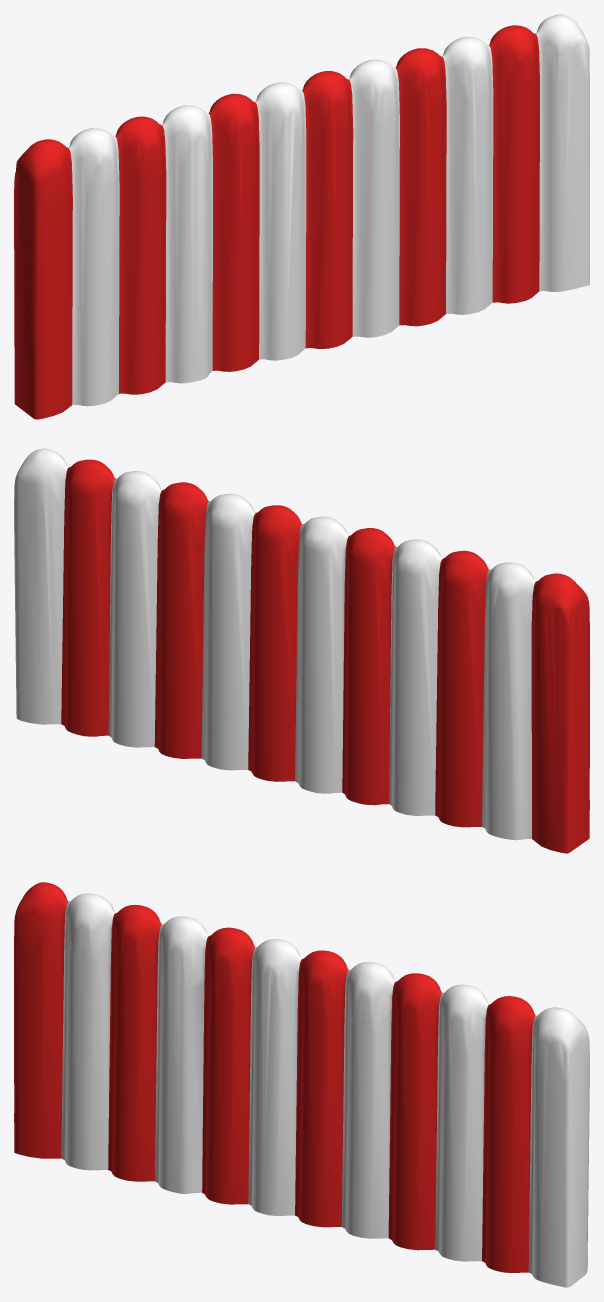
The model's file is MarketRoof.fbx.
3 renders of one model, top to bottom at view 1: azimuth 30°, elevation 25°; view 2: azimuth 150°, elevation 25°; view 3: azimuth 330°, elevation 25°, orthographic.
Visible parts, largest first — view 1: Plane; view 2: Plane; view 3: Plane.
Boxes of the visible parts, x1,y1,x2,y2 form: Plane: [14, 14, 589, 419]; Plane: [14, 448, 589, 853]; Plane: [14, 882, 589, 1287].
Size of the model in its own units: 1134 by 516 by 85.74.
